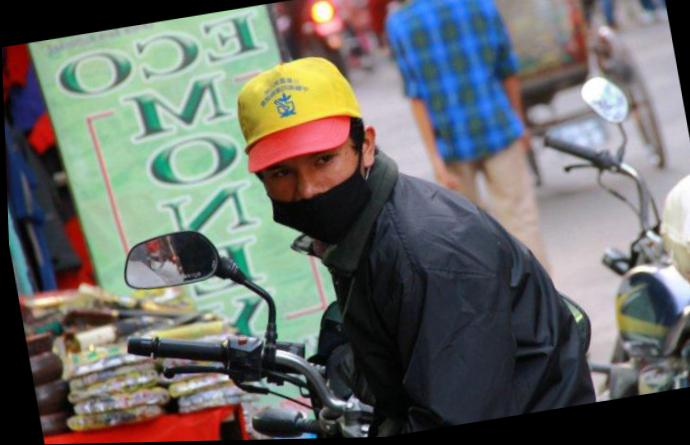WRONG: (260, 137, 378, 254)
